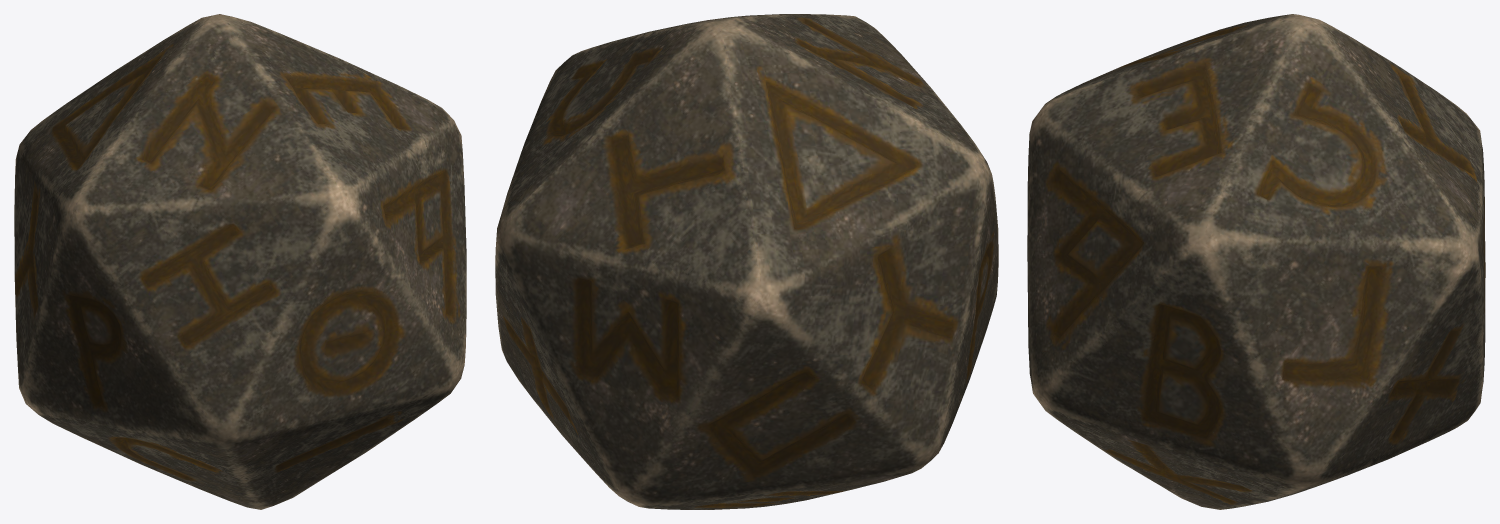
File: ancient_d20.gltf
3 renders of one model, left to right at view 1: azimuth 30°, elevation 25°; view 2: azimuth 150°, elevation 25°; view 3: azimuth 270°, elevation 25°, orthographic. The views are drawn at different scales.
Visible parts, largest first — view 1: ancient_d20_sm; view 2: ancient_d20_sm; view 3: ancient_d20_sm.
Part boxes in pixels (left/top/right/bottom): ancient_d20_sm: left=14, top=14, right=466, bottom=509; ancient_d20_sm: left=495, top=14, right=998, bottom=509; ancient_d20_sm: left=1027, top=14, right=1485, bottom=509.
Bounding box in the file's own units: 1.78 × 1.97 × 1.69.
Materials: 1 (1 with a texture image).
